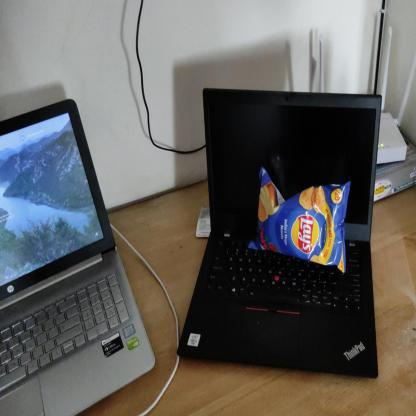indian_magic_masala: (251, 167, 349, 273)
